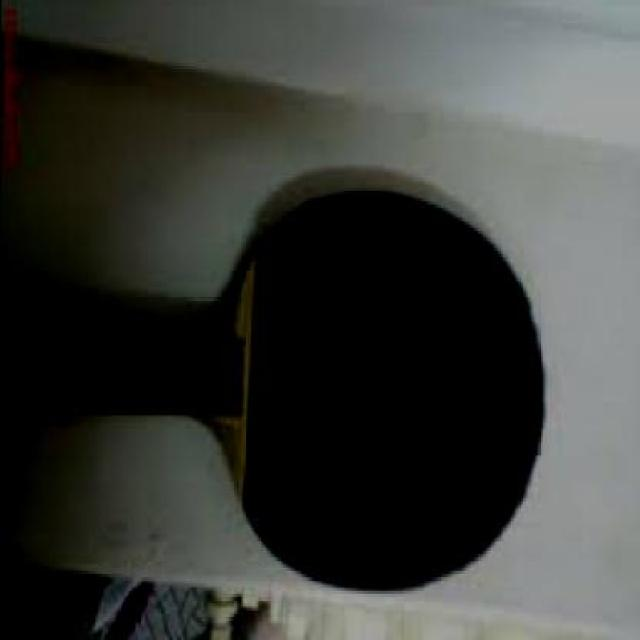table_tennis_racket: (200, 183, 558, 594)
